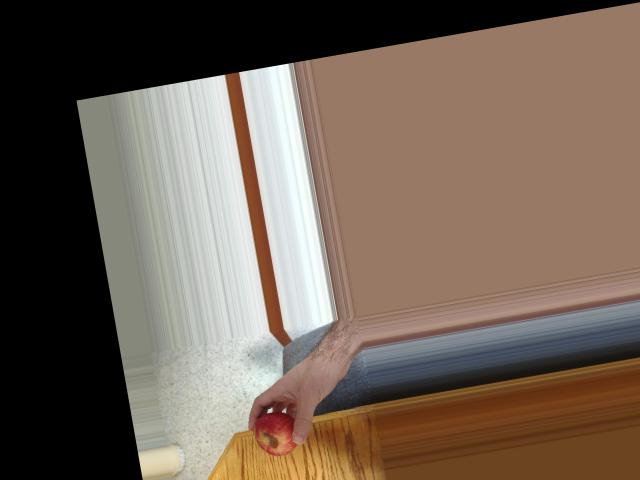apple: (250, 406, 307, 459)
